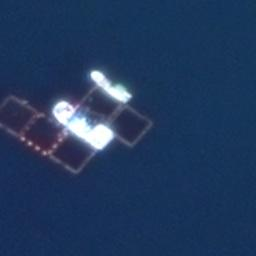square_solid: (17, 111, 72, 160), (45, 128, 101, 176), (105, 102, 154, 151), (77, 83, 125, 128), (1, 93, 40, 142)
